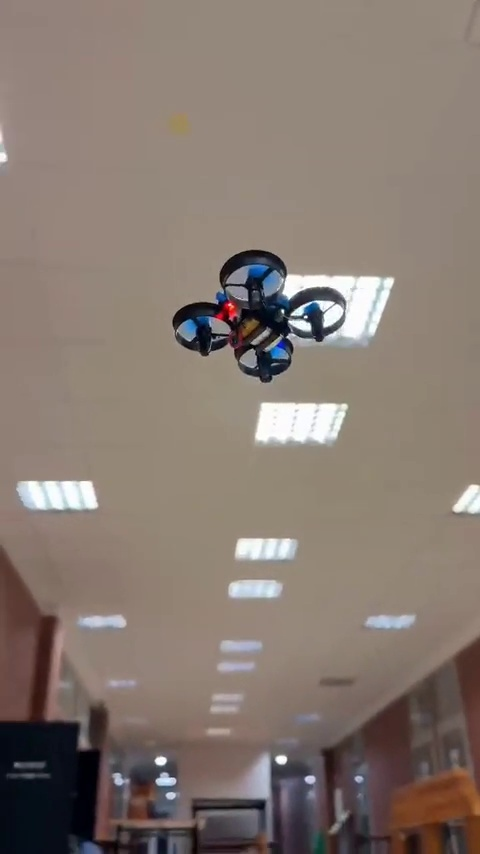drone: (165, 249, 349, 387)
